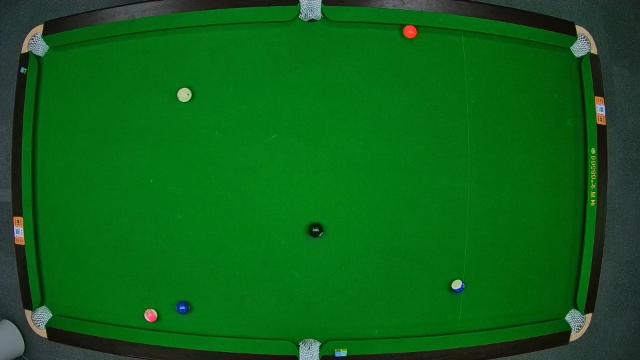bag1: (27, 34, 47, 54)
bag2: (298, 0, 322, 22)
bag3: (572, 36, 592, 58)
bag4: (32, 306, 50, 328)
bag5: (297, 338, 321, 360)
bag6: (564, 310, 586, 332)
ball0: (177, 88, 193, 103)
ball10: (450, 280, 466, 292)
ball12: (144, 308, 158, 324)
ball2: (175, 300, 192, 316)
ball5: (404, 24, 418, 40)
ball8: (308, 222, 324, 238)
